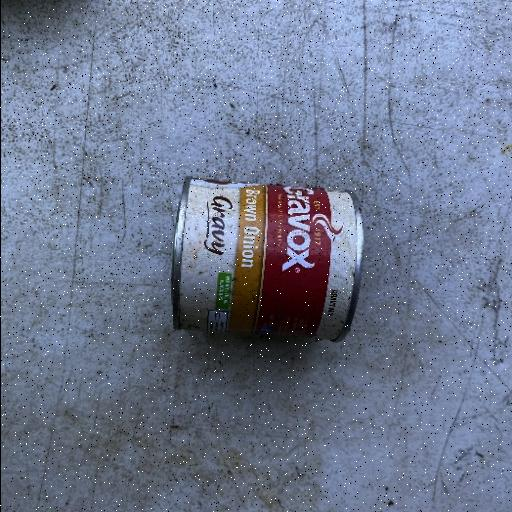Metal: (170, 176, 364, 344)
